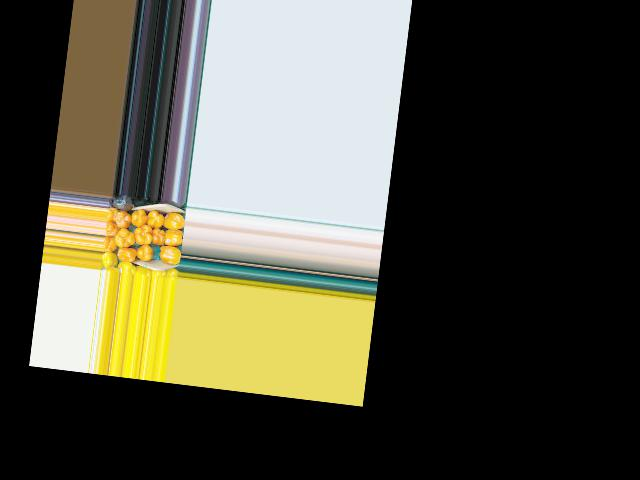bell_pepper: (116, 261, 139, 273)
